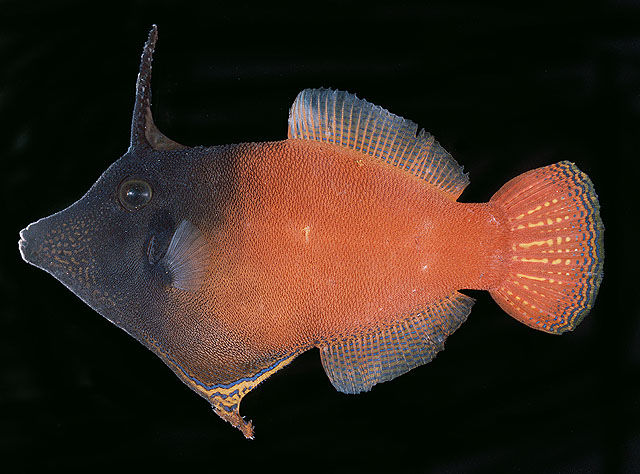fish: (18, 24, 605, 439)
